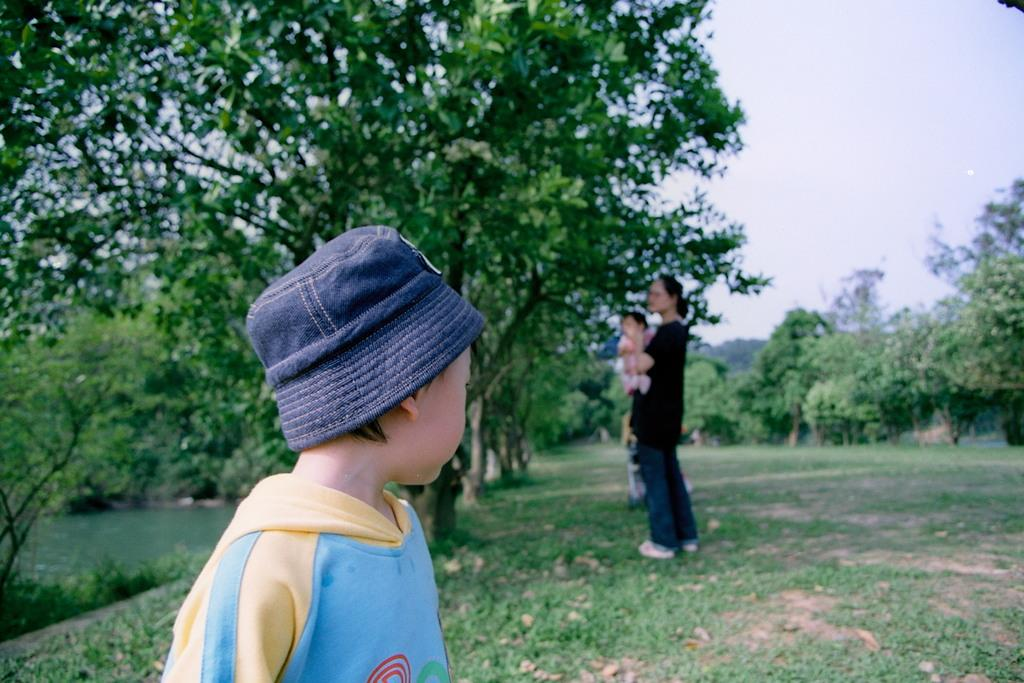Hat: (246, 221, 482, 454)
